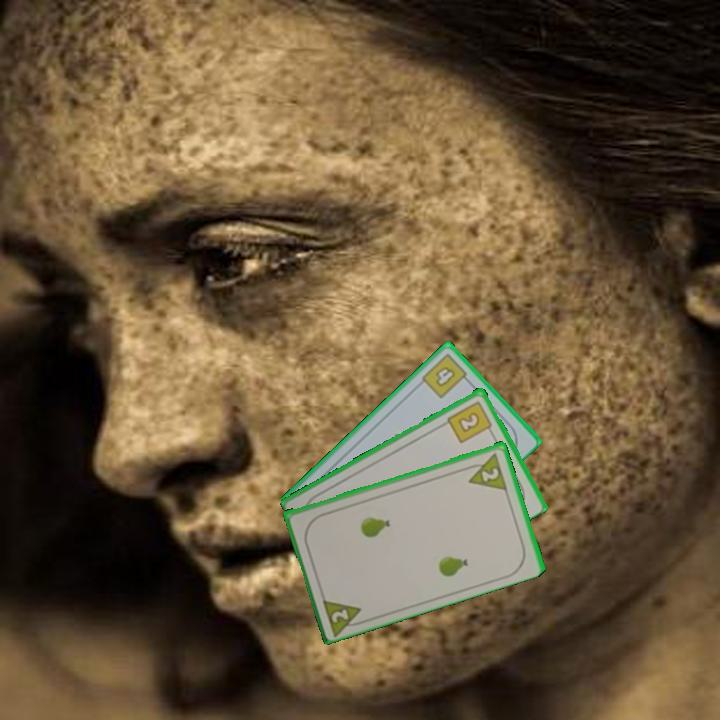2b: (444, 397, 496, 446)
2p: (318, 593, 369, 637), (461, 449, 510, 492)
4b: (418, 350, 473, 401)
